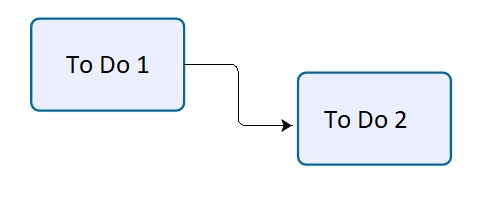arrow: (182, 62, 294, 133)
process: (27, 15, 188, 114), (295, 70, 454, 168)
text: (64, 54, 149, 77), (322, 109, 410, 130)
